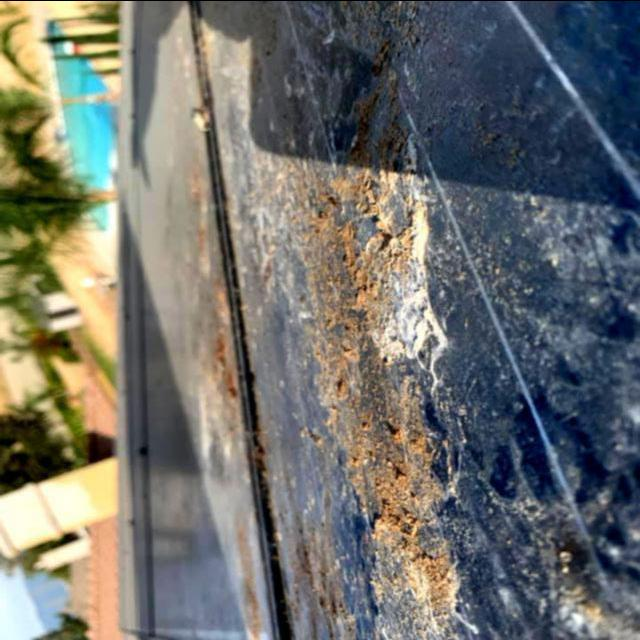soiled: (171, 0, 640, 629)
